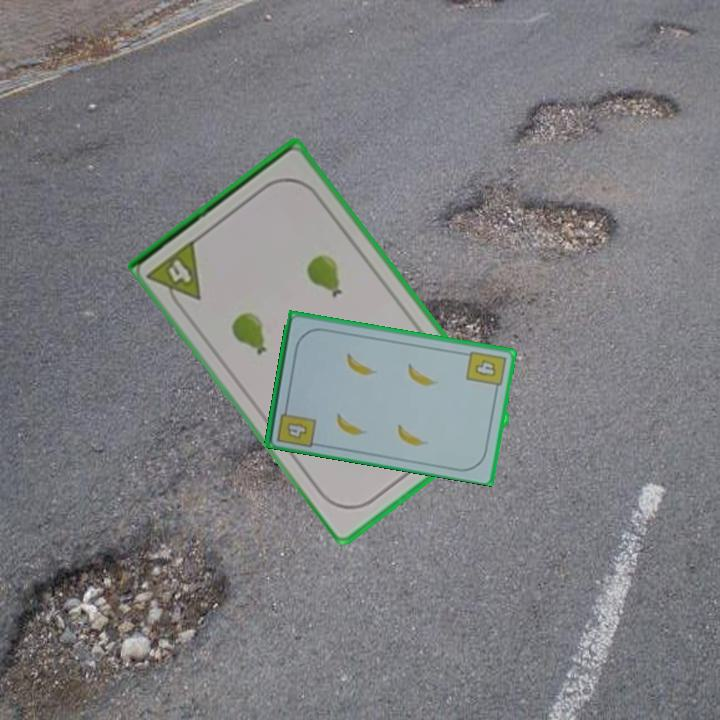4b: (462, 347, 509, 395), (274, 401, 318, 450)
4p: (144, 235, 205, 314)
